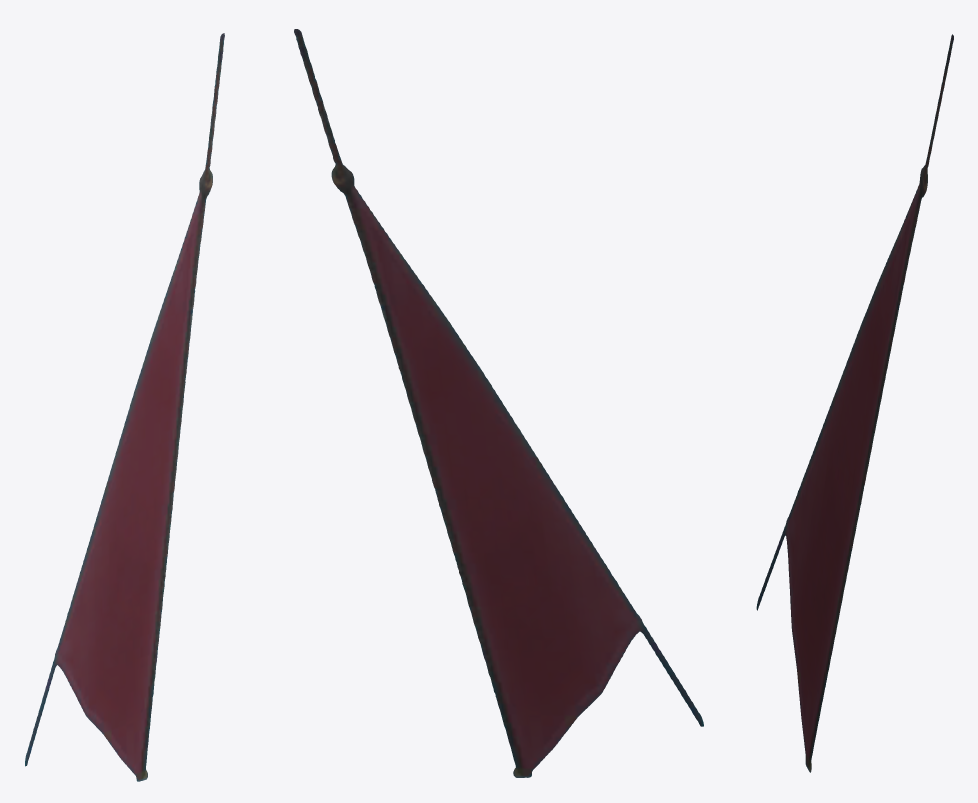
The model's file is pref_sce_081501_sail03_plan_lv3.fbx.
3 views of the same model, side by side, from view 1: azimuth 30°, elevation 25°; view 2: azimuth 150°, elevation 25°; view 3: azimuth 270°, elevation 25° (orthographic). The views are drawn at different scales.
Parts seen in each view (by area): view 1: pref_sce_081501_sail03_plan_lv3; view 2: pref_sce_081501_sail03_plan_lv3; view 3: pref_sce_081501_sail03_plan_lv3.
Boxes of the visible parts, bbox=[...] form: pref_sce_081501_sail03_plan_lv3: bbox=[25, 33, 224, 781]; pref_sce_081501_sail03_plan_lv3: bbox=[294, 29, 703, 777]; pref_sce_081501_sail03_plan_lv3: bbox=[756, 34, 953, 772].
Bounding box in the file's own units: 5.09 × 10.81 × 2.46.
